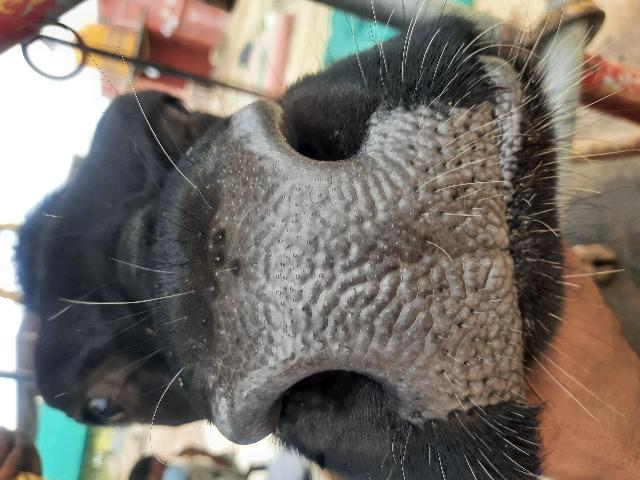Muzzle: (223, 176, 515, 368)
